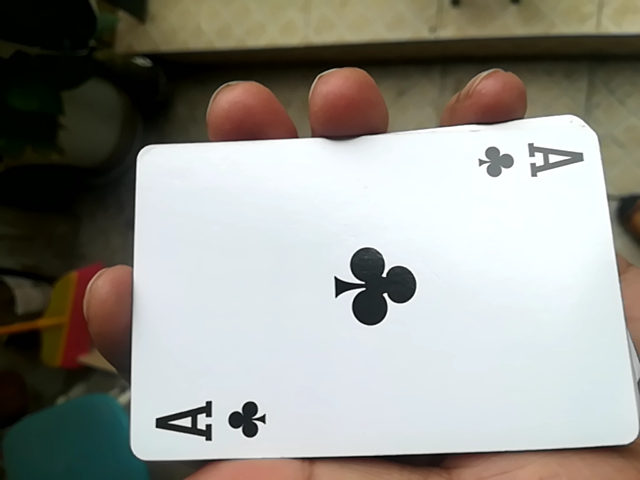mh a: (114, 122, 632, 477)
